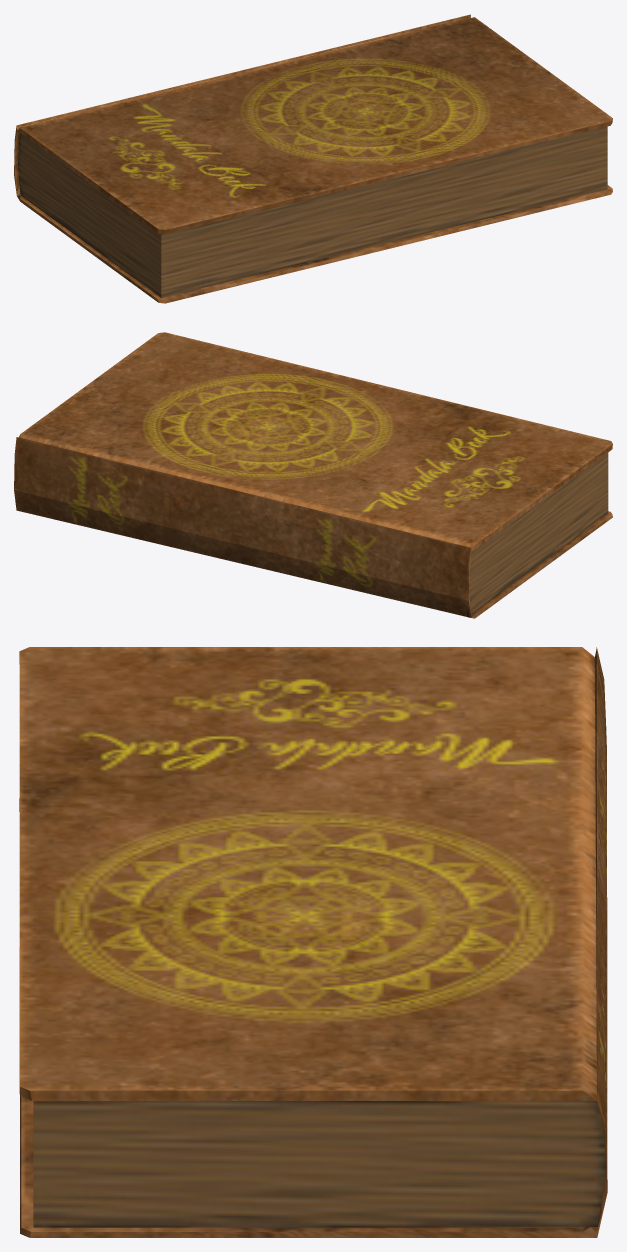
File: ARC0510132.fbx
3 views of the same model, one above another, from view 1: azimuth 30°, elevation 25°; view 2: azimuth 150°, elevation 25°; view 3: azimuth 270°, elevation 25° (orthographic). The views are drawn at different scales.
Parts seen in each view (by area): view 1: smARC0510132; view 2: smARC0510132; view 3: smARC0510132.
Boxes of the visible parts, x1,y1,x2,y2 form: smARC0510132: (14,14,612,303); smARC0510132: (14,332,612,618); smARC0510132: (19,647,607,1237).
Bounding box in the file's own units: 32.19 × 4.98 × 18.02.
Materials: 1 (1 with a texture image).
